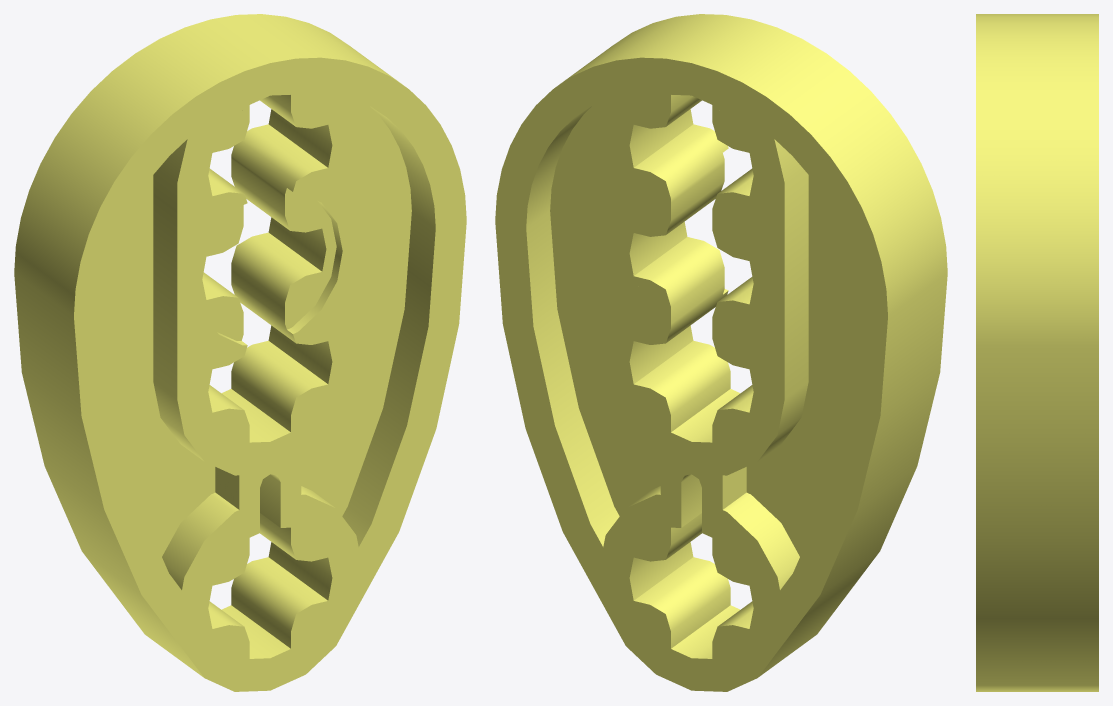
The picture shows the model from 3 angles, left to right: view 1: azimuth 30°, elevation 25°; view 2: azimuth 150°, elevation 25°; view 3: azimuth 270°, elevation 25°; orthographic projection. The views are drawn at different scales.
Parts seen in each view (by area): view 1: 6575a.dat; view 2: 6575a.dat; view 3: 6575a.dat.
Boxes of the visible parts, bbox=[...] form: 6575a.dat: bbox=[14, 14, 466, 691]; 6575a.dat: bbox=[495, 14, 947, 691]; 6575a.dat: bbox=[976, 14, 1098, 691].
Bounding box in the file's own units: 0.0152 × 0.0232 × 0.004.
